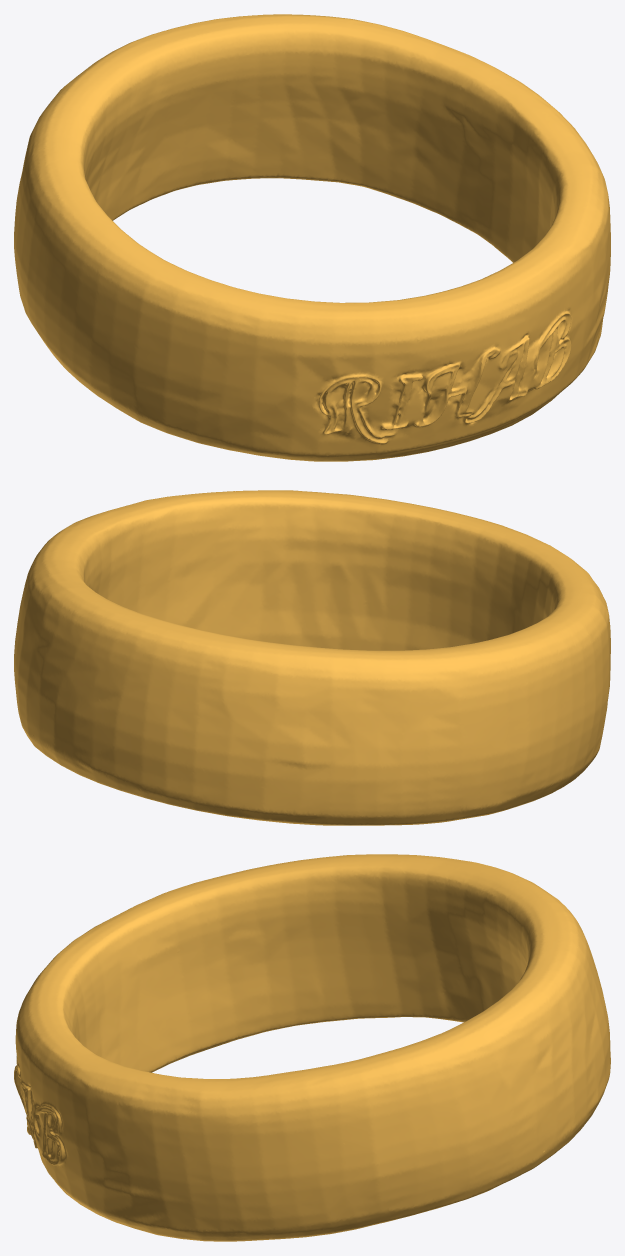
The model's file is tafzeena-ring.glb.
3 views of the same model, one above another, from view 1: azimuth 30°, elevation 25°; view 2: azimuth 150°, elevation 25°; view 3: azimuth 270°, elevation 25° (orthographic). The views are drawn at different scales.
Bounding box in the file's own units: 0.9 × 0.3833 × 0.9347.
1 material, 1 textured.
